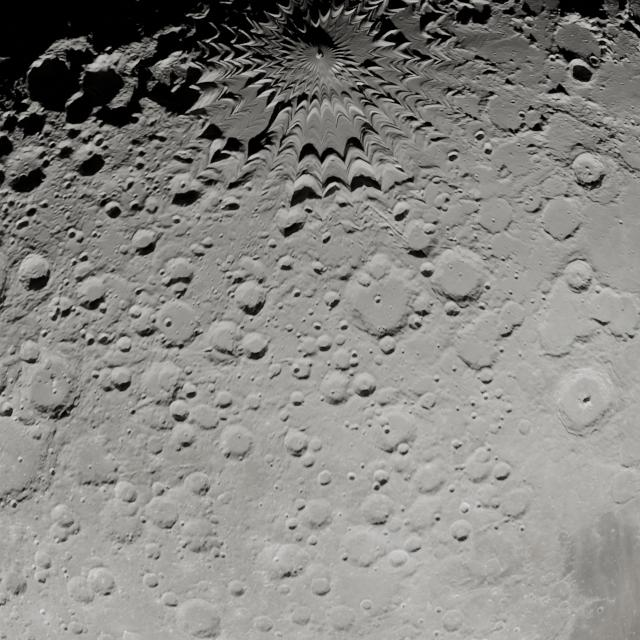crater: (352, 255, 416, 342), (27, 49, 83, 114), (7, 148, 46, 200), (566, 148, 611, 192), (16, 252, 52, 293), (168, 175, 204, 211), (72, 280, 110, 314), (235, 279, 266, 319), (162, 256, 196, 291), (318, 373, 354, 406), (348, 368, 378, 406), (72, 146, 106, 179), (565, 59, 598, 89), (235, 333, 269, 359), (285, 428, 314, 458), (130, 227, 158, 256), (171, 396, 190, 424), (380, 336, 398, 359), (394, 199, 412, 220), (416, 261, 437, 278), (106, 201, 121, 222), (420, 219, 438, 236), (472, 130, 488, 146), (445, 150, 460, 166), (368, 295, 382, 305)
